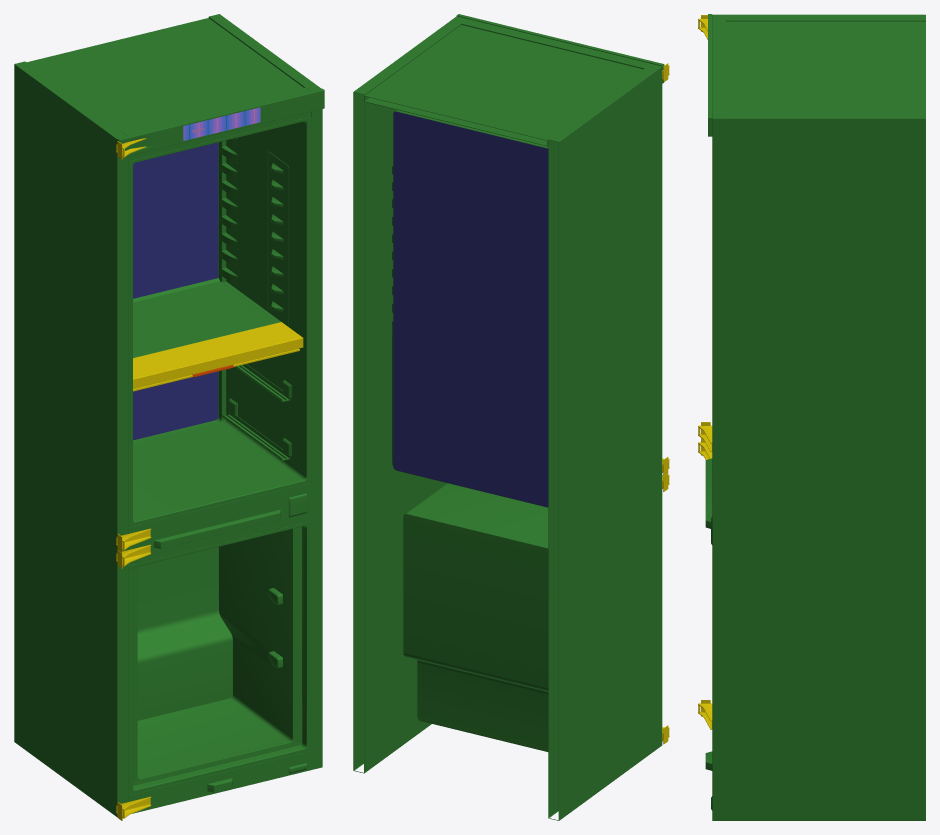
The model's file is SM_Fridge_Base.fbx.
3 views of the same model, side by side, from view 1: azimuth 30°, elevation 25°; view 2: azimuth 150°, elevation 25°; view 3: azimuth 270°, elevation 25° (orthographic). The views are drawn at different scales.
Parts seen in each view (by area): view 1: SM_Fridge_Base; view 2: SM_Fridge_Base; view 3: SM_Fridge_Base.
Boxes of the visible parts, left/top/right/bottom form: SM_Fridge_Base: left=14, top=14, right=324, bottom=820; SM_Fridge_Base: left=353, top=14, right=669, bottom=820; SM_Fridge_Base: left=698, top=14, right=925, bottom=820.
Bounding box in the file's own units: 55.88 × 176 × 51.63.
Materials: 7 (2 with a texture image).
